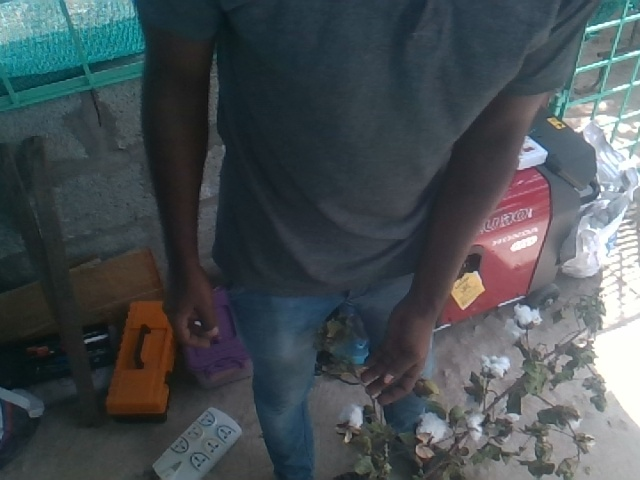cotton: (414, 409, 451, 443), (453, 410, 490, 441), (333, 403, 369, 432), (512, 303, 547, 330), (478, 356, 510, 382), (503, 319, 528, 346)
